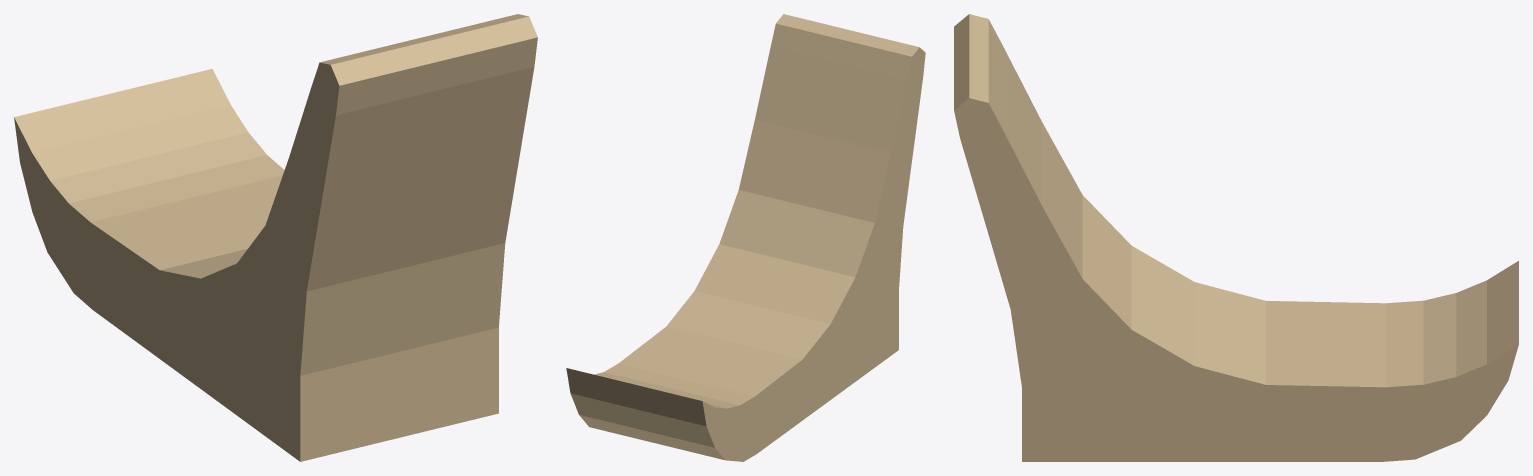
File: half_leg.obj
3 views of the same model, side by side, from view 1: azimuth 30°, elevation 25°; view 2: azimuth 150°, elevation 25°; view 3: azimuth 270°, elevation 25° (orthographic). The views are drawn at different scales.
Parts seen in each view (by area): view 1: half_leg_Half_Leg.003; view 2: half_leg_Half_Leg.003; view 3: half_leg_Half_Leg.003.
Boxes of the visible parts, bbox=[...] form: half_leg_Half_Leg.003: bbox=[14, 14, 537, 461]; half_leg_Half_Leg.003: bbox=[566, 14, 925, 461]; half_leg_Half_Leg.003: bbox=[954, 14, 1518, 461].
Bounding box in the file's own units: 0.3019 × 0.6094 × 0.8573.
Materials: 1 (1 with a texture image).
